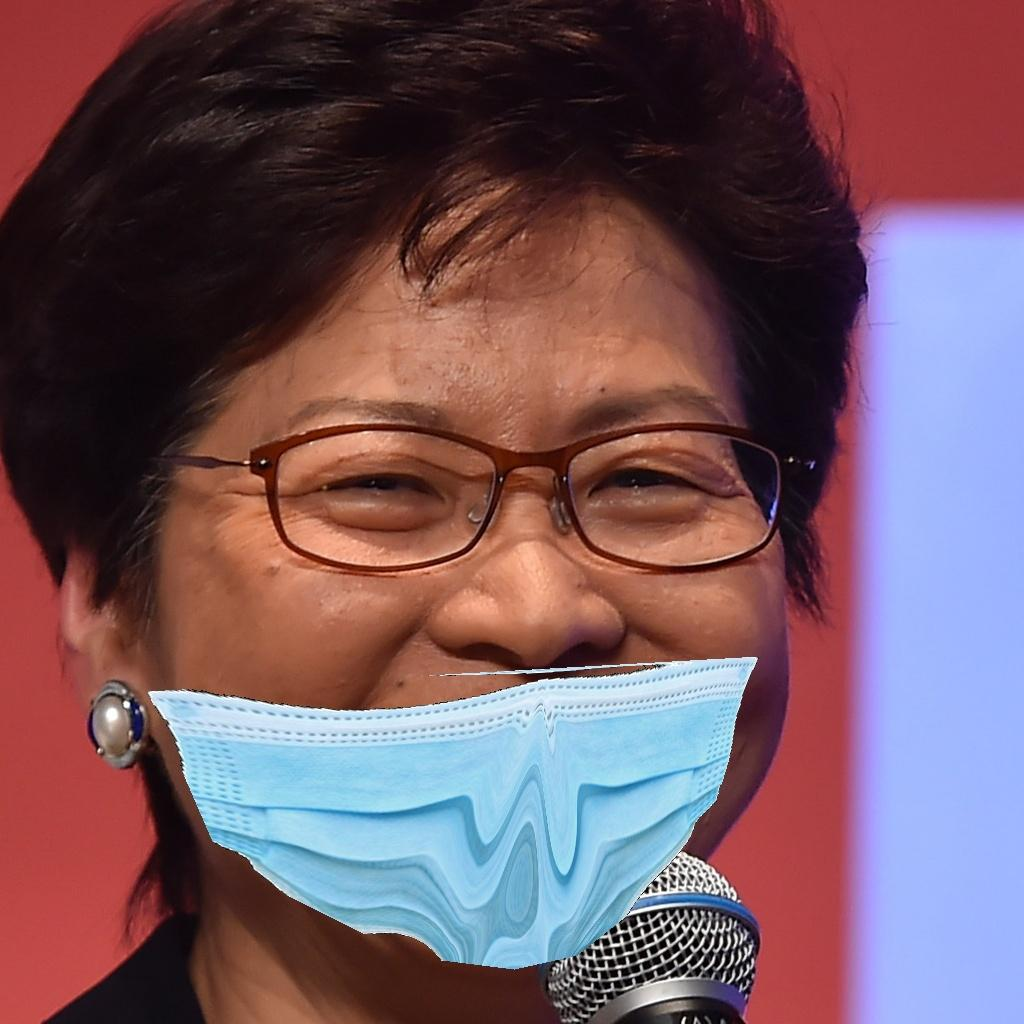Máscara Incorreta: (136, 255, 772, 921)
